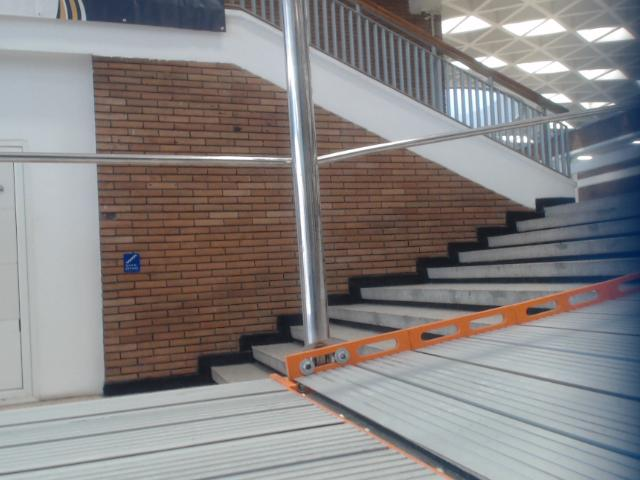rampUp: (0, 272, 639, 479)
ramps-railing: (69, 0, 639, 347)
